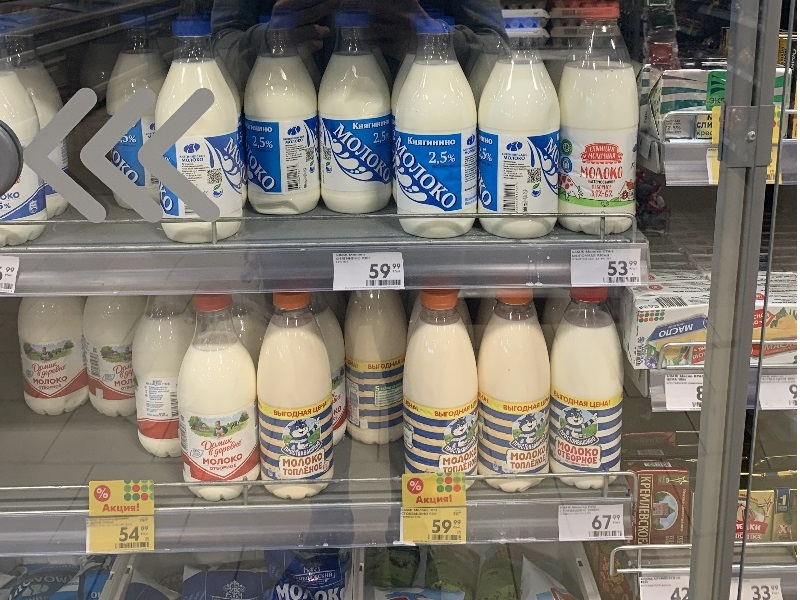milk: (386, 14, 492, 244), (556, 2, 649, 244), (174, 290, 273, 511), (473, 15, 568, 245), (249, 292, 346, 501), (545, 285, 640, 497), (238, 14, 326, 229), (311, 14, 401, 220), (400, 288, 482, 501), (474, 287, 557, 494)
